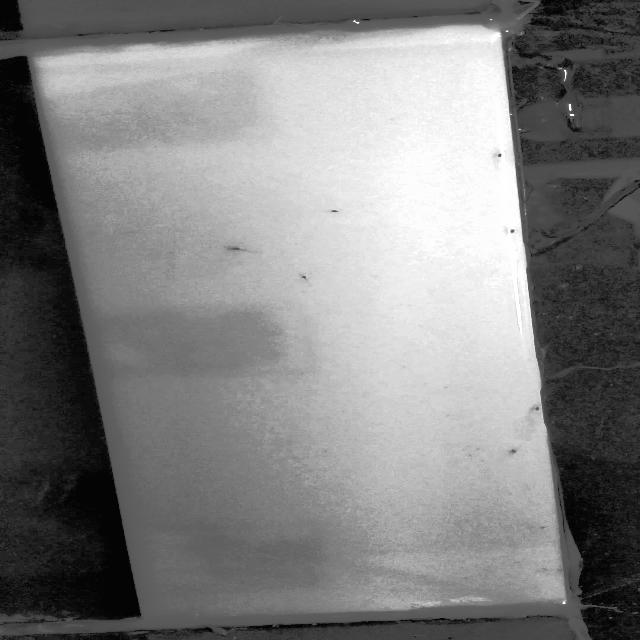shrimp: (214, 240, 259, 260), (280, 269, 326, 287), (326, 205, 356, 220), (500, 442, 527, 458), (486, 147, 506, 166), (501, 228, 520, 235)
